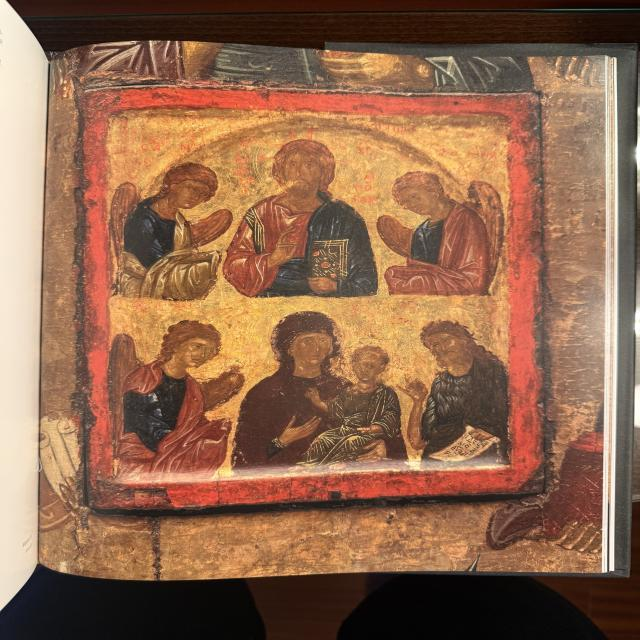angel: (104, 308, 251, 472), (365, 155, 519, 301), (91, 155, 237, 291)
book: (303, 237, 355, 287)
christ: (220, 130, 386, 304)
christ_child: (309, 343, 393, 467)
christ_hand: (259, 225, 303, 272), (303, 383, 335, 411)
mary_and_child: (239, 303, 410, 469)
saint: (390, 309, 514, 459)
scroll: (423, 424, 508, 463)
wing: (466, 179, 520, 291), (88, 180, 148, 264), (101, 336, 148, 430), (185, 203, 243, 243), (199, 363, 251, 406), (377, 217, 415, 256)
